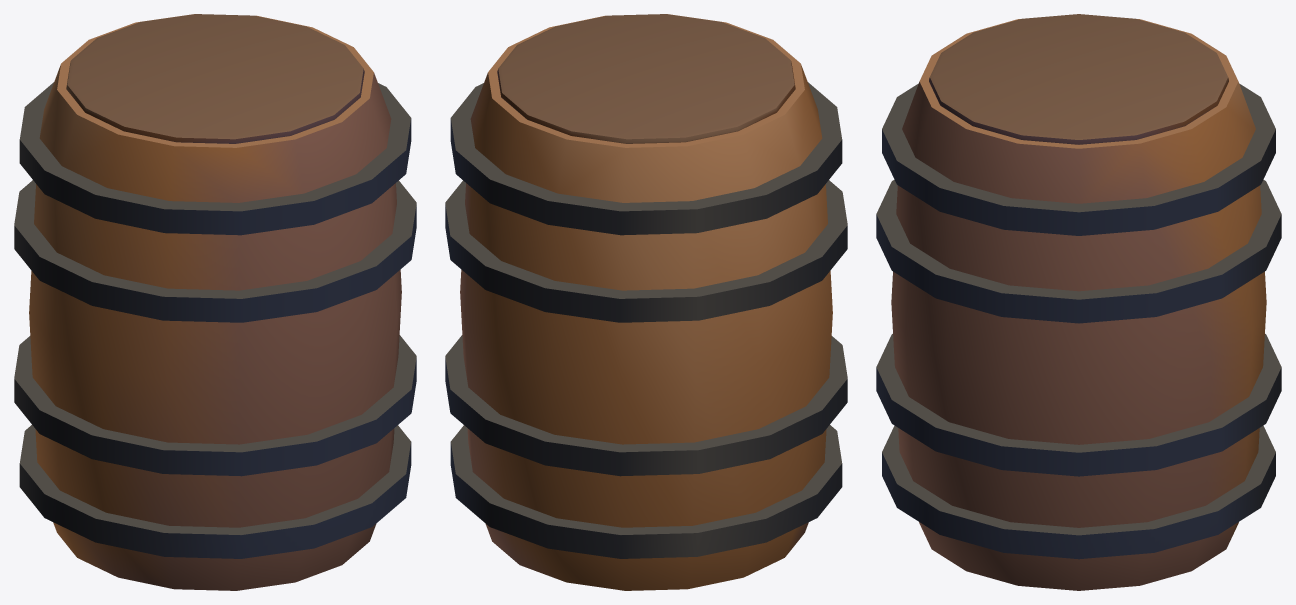
File: Barrel.fbx
The picture shows the model from 3 angles, left to right: view 1: azimuth 30°, elevation 25°; view 2: azimuth 150°, elevation 25°; view 3: azimuth 270°, elevation 25°; orthographic projection.
Parts seen in each view (by area): view 1: SM_Prop_Barrel; view 2: SM_Prop_Barrel; view 3: SM_Prop_Barrel.
Part boxes in pixels (x1,y1,x2,y2): SM_Prop_Barrel: (14,14,416,590); SM_Prop_Barrel: (445,14,847,590); SM_Prop_Barrel: (876,14,1281,590).
Size of the model in its own units: 2.16 by 2.63 by 2.16.
